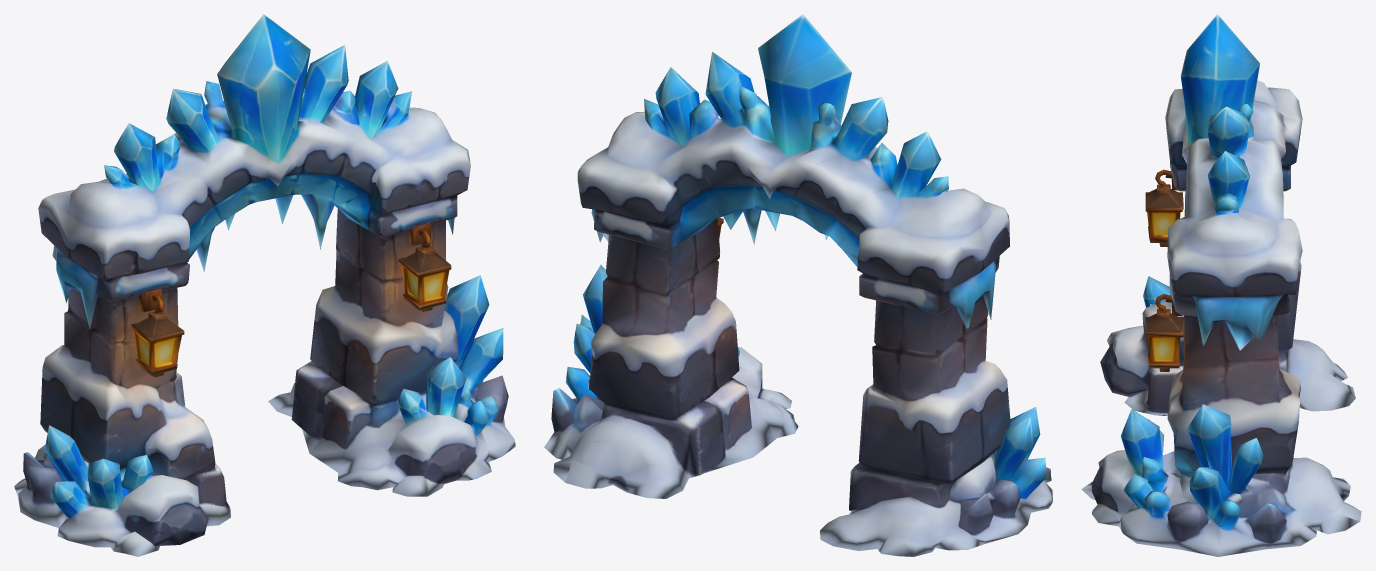
File: frost_gate.glb
3 renders of one model, left to right at view 1: azimuth 30°, elevation 25°; view 2: azimuth 150°, elevation 25°; view 3: azimuth 270°, elevation 25°, orthographic. The views are drawn at different scales.
Visible parts, largest first — view 1: geometry_0; view 2: geometry_0; view 3: geometry_0.
Part boxes in pixels (box(x1,y1,x2,y2)): geometry_0: box(14, 14, 515, 556); geometry_0: box(544, 14, 1052, 556); geometry_0: box(1081, 14, 1361, 556).
Size of the model in its own units: 0.9609 by 0.8887 by 0.522.
Materials: 1 (1 with a texture image).
